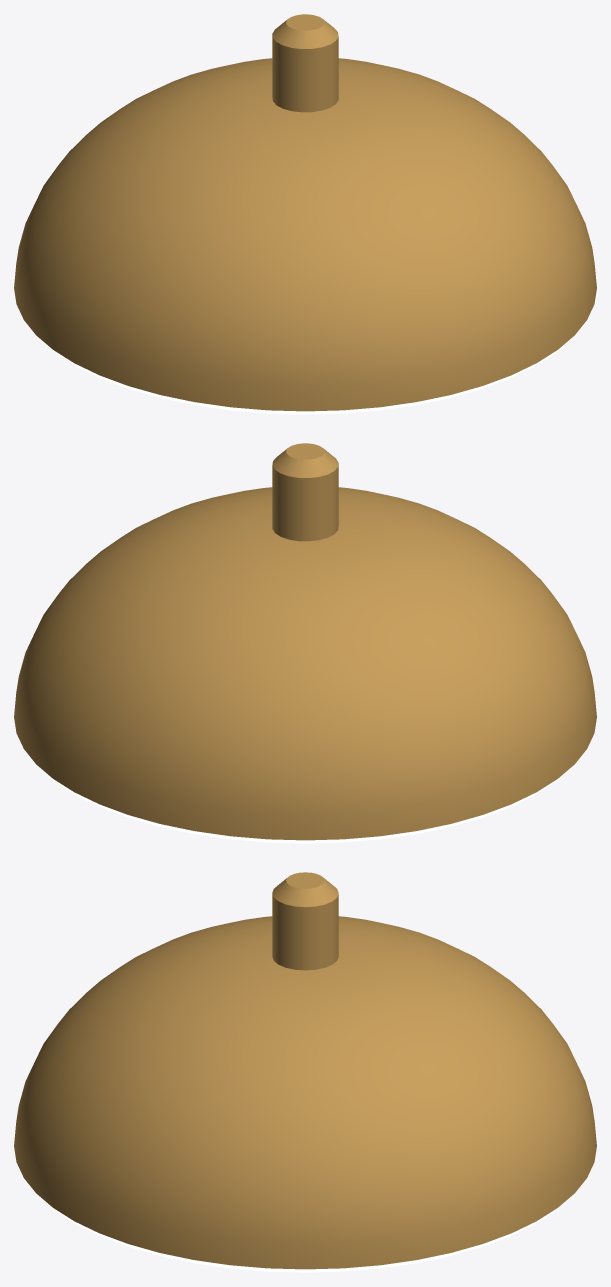
The model's file is dome_brass.glb.
3 renders of one model, top to bottom at view 1: azimuth 30°, elevation 25°; view 2: azimuth 150°, elevation 25°; view 3: azimuth 270°, elevation 25°, orthographic.
Parts seen in each view (by area): view 1: dome_brass; view 2: dome_brass; view 3: dome_brass.
Boxes of the visible parts, x1,y1,x2,y2 form: dome_brass: (14,14,596,414); dome_brass: (14,443,596,843); dome_brass: (14,872,596,1272).
Size of the model in its own units: 0.42 by 0.2152 by 0.42.
